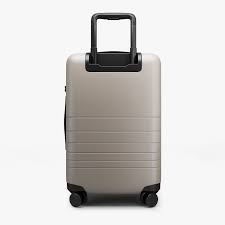suitcase: (62, 12, 164, 211)
